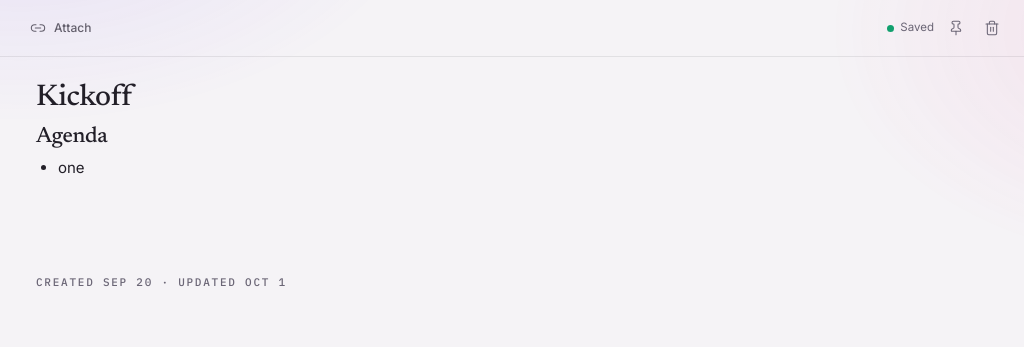
Test: NoteEditor — body › shows rendered Markdown until the body is tapped, then the source
Expected: the heading "Agenda" is shown, [36,126,108,148]
Click the button with aria-label "Edit note body".
click(72, 137)  # box [36,126,108,177]
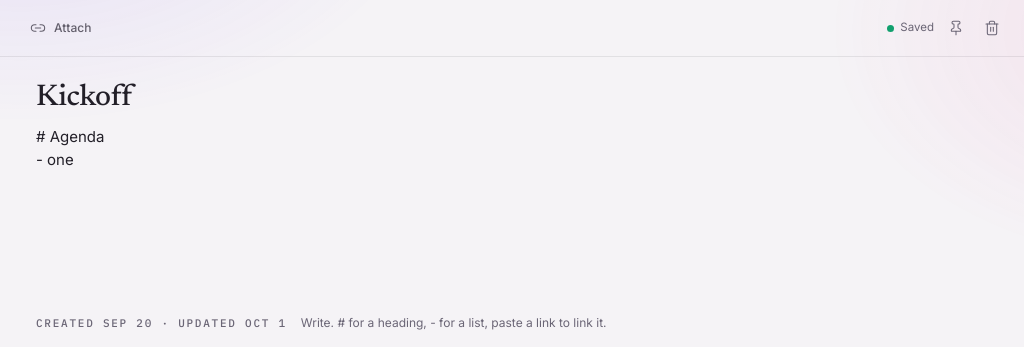
Expected: the text "# for a heading, - for a list" is shown, [301,315,607,330]
Leave the text box named "Note body", box [36,126,684,286]
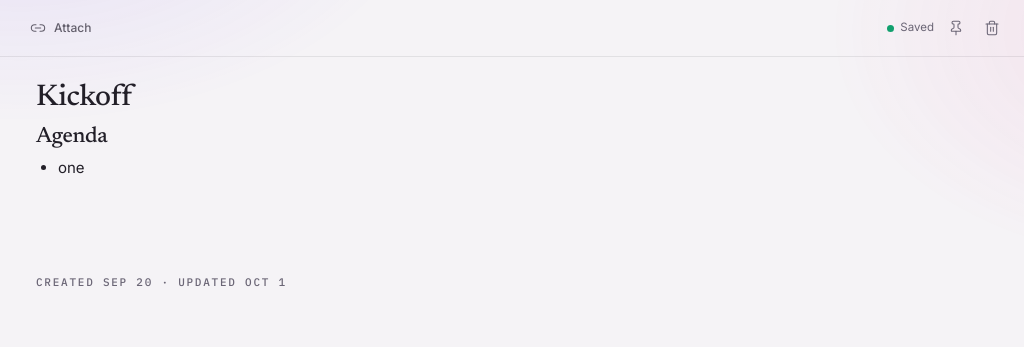
Expected: the heading "Agenda" is shown, [36,126,108,148]
